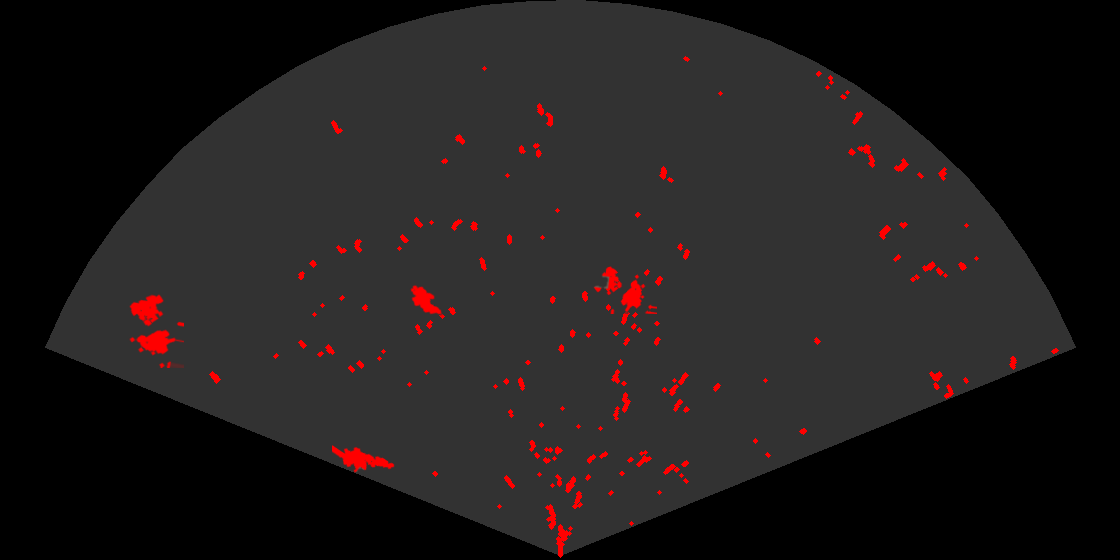AUV: (409, 283, 444, 316)
cage: (128, 293, 184, 368), (592, 265, 657, 314)
frogman: (332, 444, 396, 474)
